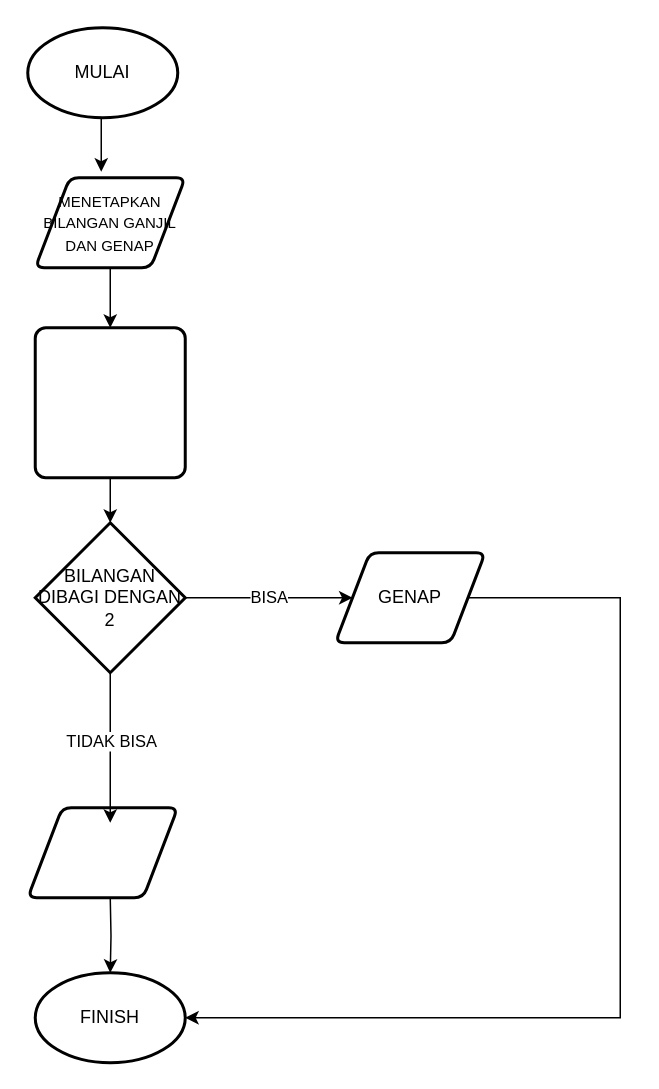
The diagram is 659 pixels wide and 1089 high, and some of its shapes have lost their labels. Here are the shapes that lost their labels. From the top down, the centre of each, then its label:
At (x=109, y=402): "DIBAGI 2".
At (x=102, y=852): "GANJIL".
